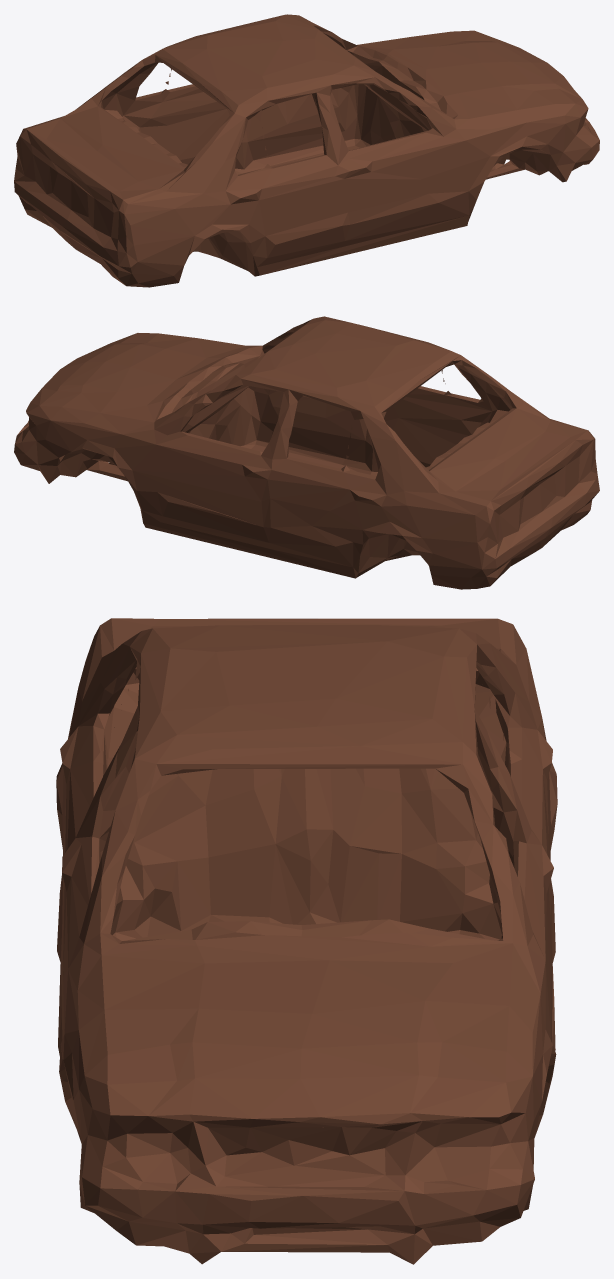
Rendered from wreck.glb.
3 views of the same model, one above another, from view 1: azimuth 30°, elevation 25°; view 2: azimuth 150°, elevation 25°; view 3: azimuth 270°, elevation 25° (orthographic). The views are drawn at different scales.
Parts seen in each view (by area): view 1: Mesh_0; view 2: Mesh_0; view 3: Mesh_0.
Boxes of the visible parts, x1,y1,x2,y2 form: Mesh_0: (14, 14, 599, 287); Mesh_0: (14, 316, 599, 589); Mesh_0: (56, 618, 557, 1264).
Size of the model in its own units: 4.4 by 1.44 by 1.91.
